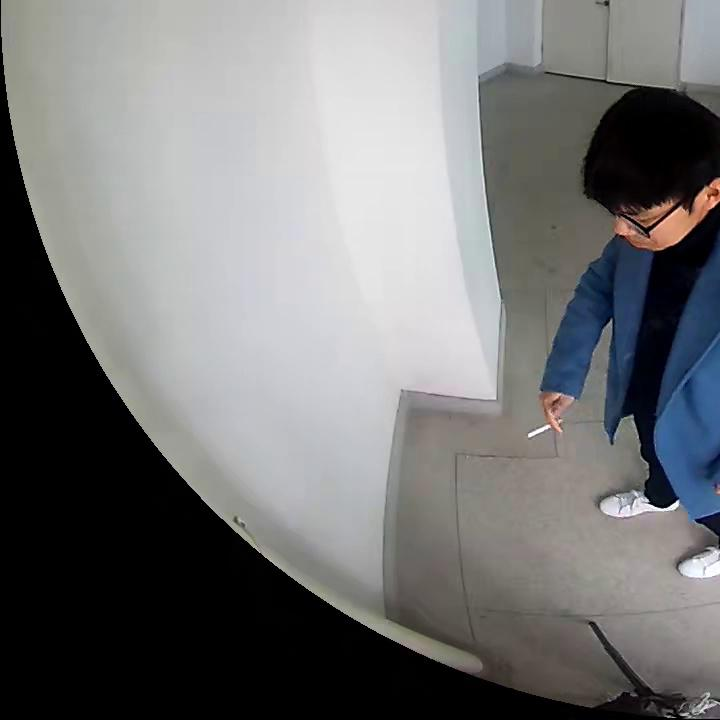handsmoke: (526, 396, 576, 438)
mouthwithoutsmoke: (582, 88, 719, 250)
